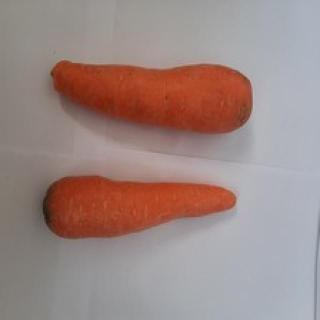carrot: (50, 63, 254, 131), (42, 175, 237, 238)
